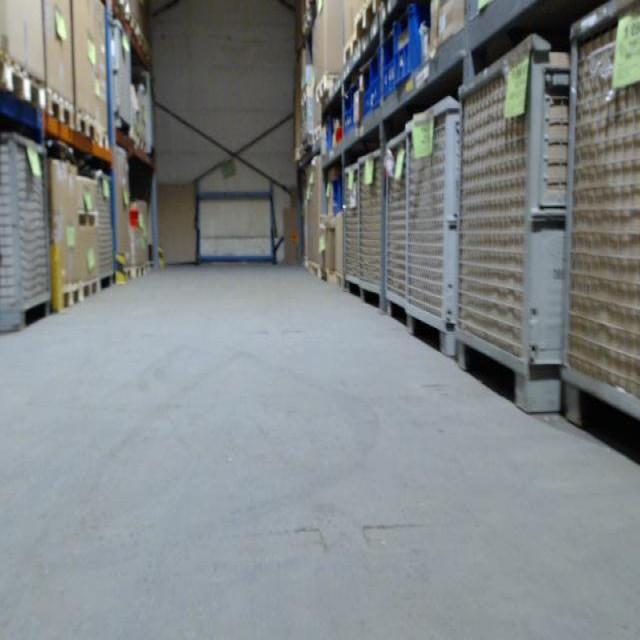pallet: (2, 56, 47, 109), (46, 91, 74, 129), (355, 0, 378, 44), (61, 281, 84, 310), (76, 111, 98, 140), (316, 73, 334, 103), (344, 35, 359, 64), (83, 280, 100, 300), (313, 127, 321, 142)
small_load_carrier: (395, 2, 426, 88), (383, 25, 399, 104), (371, 49, 386, 116), (360, 69, 376, 117), (343, 83, 360, 128), (332, 175, 345, 214), (323, 115, 335, 150)
stillage: (452, 36, 577, 423), (548, 1, 639, 450), (409, 82, 460, 363), (1, 127, 53, 335), (383, 121, 411, 343), (358, 145, 385, 320), (107, 19, 139, 138), (90, 173, 116, 290), (341, 160, 361, 299)
